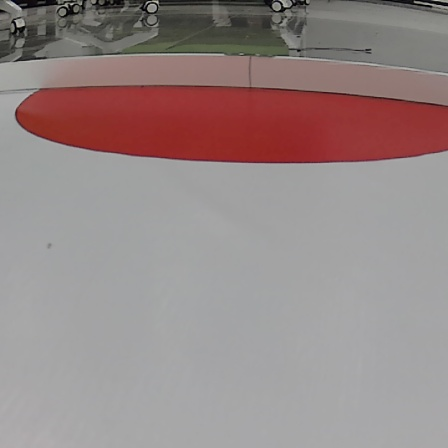red_base: (15, 83, 448, 173)
